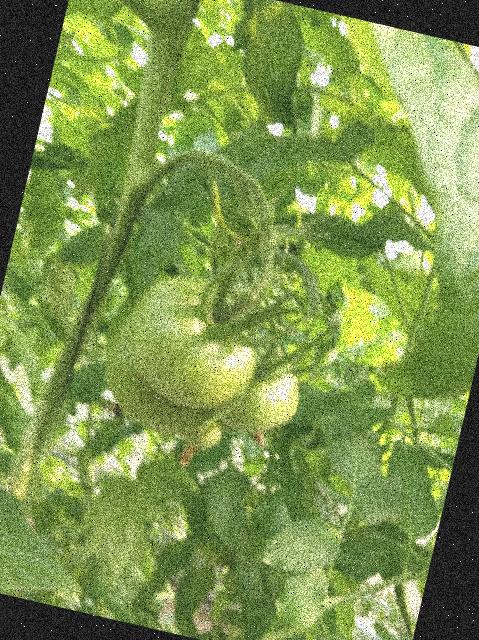b_green: (111, 264, 272, 421), (93, 317, 242, 447), (215, 339, 309, 442)
